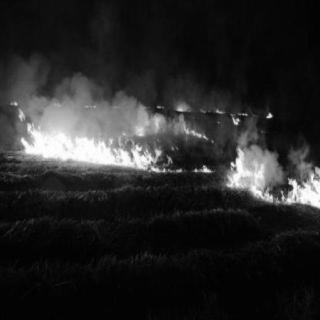Fire: (9, 97, 169, 171), (222, 141, 320, 207), (166, 111, 210, 142), (162, 156, 212, 174), (179, 97, 191, 114)
